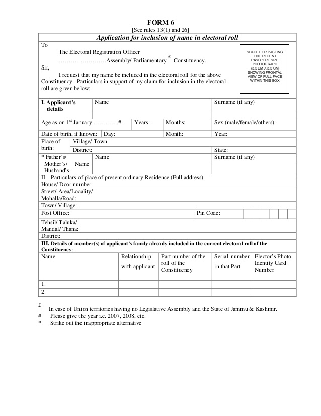textbox: (37, 217, 298, 235), (36, 186, 299, 203), (37, 198, 299, 212), (68, 136, 299, 149), (37, 180, 298, 190), (37, 231, 298, 241), (37, 207, 195, 220), (91, 107, 214, 121), (91, 162, 214, 176), (68, 145, 214, 155), (210, 117, 299, 133), (211, 162, 299, 177), (211, 107, 298, 121), (210, 127, 299, 140), (161, 116, 216, 133), (36, 279, 121, 290), (36, 287, 120, 298), (210, 145, 298, 155), (99, 128, 165, 140), (242, 206, 298, 220), (157, 279, 214, 291), (155, 287, 214, 298), (161, 128, 214, 140), (250, 286, 299, 298), (117, 278, 161, 291), (210, 279, 254, 291), (251, 279, 299, 290), (130, 117, 165, 132), (117, 287, 161, 298), (211, 287, 253, 298), (258, 206, 272, 222), (250, 206, 263, 221), (277, 206, 290, 221), (268, 206, 280, 221), (286, 206, 298, 221), (241, 207, 253, 220)
